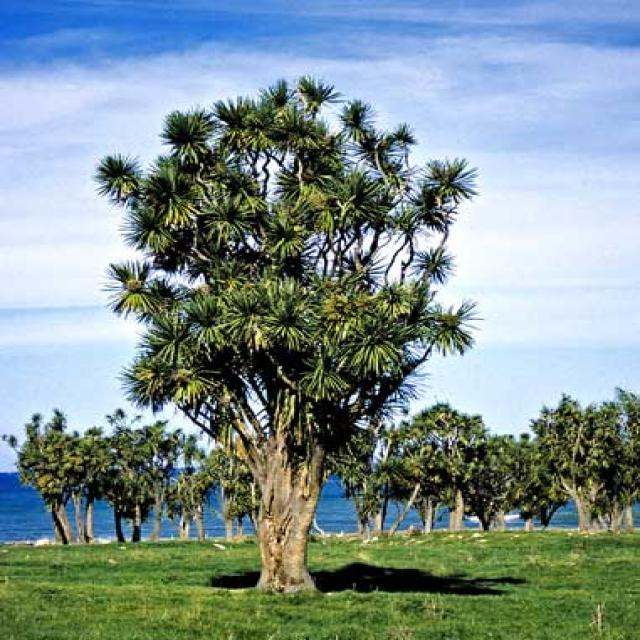Ti Kouka: (88, 72, 485, 583)
